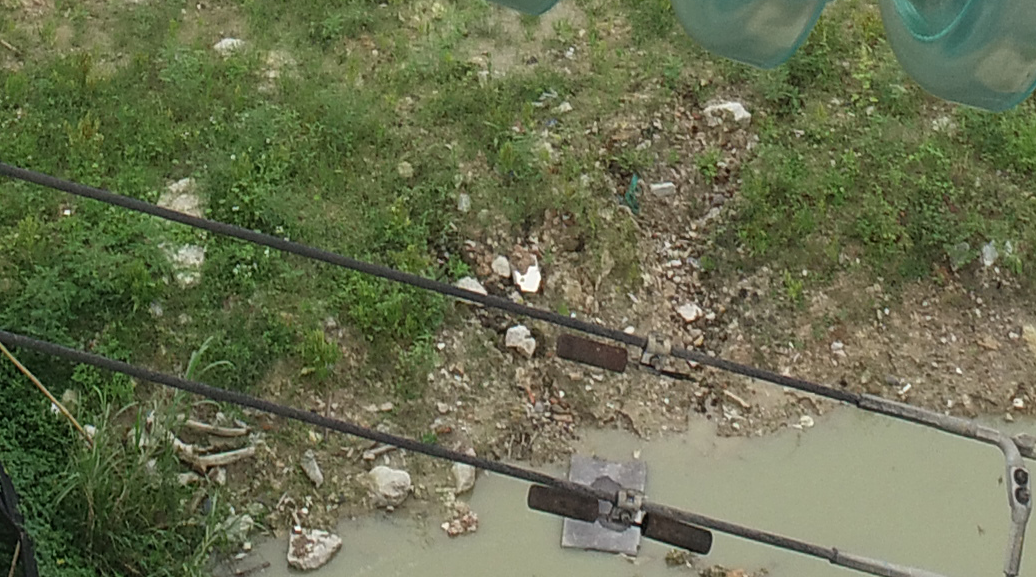damper: (523, 479, 714, 555)
damper_defect: (554, 322, 699, 385)
